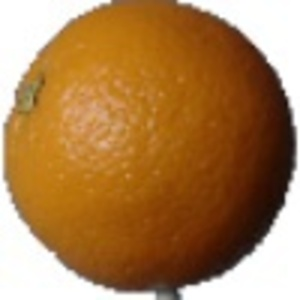laranja: (4, 3, 295, 297)
